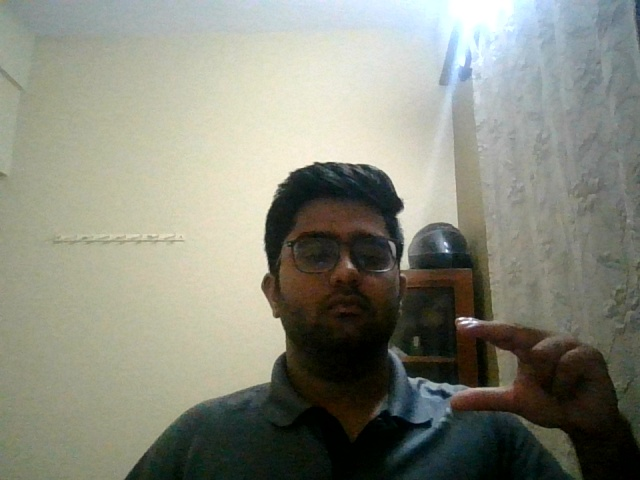No: (446, 303, 635, 451)
